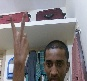hand: (9, 11, 33, 64)
